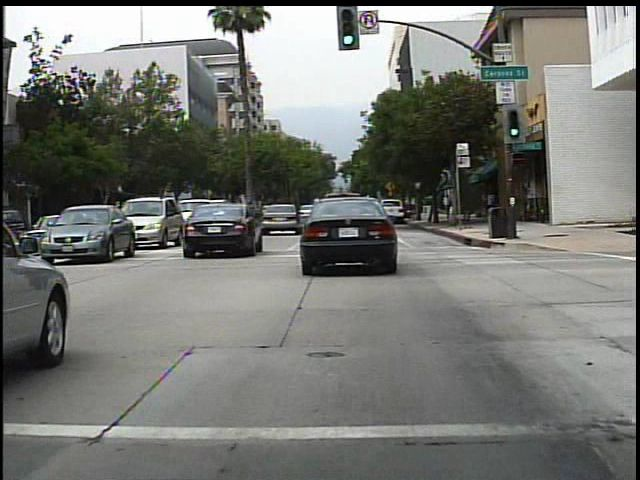person: (438, 190, 458, 223)
